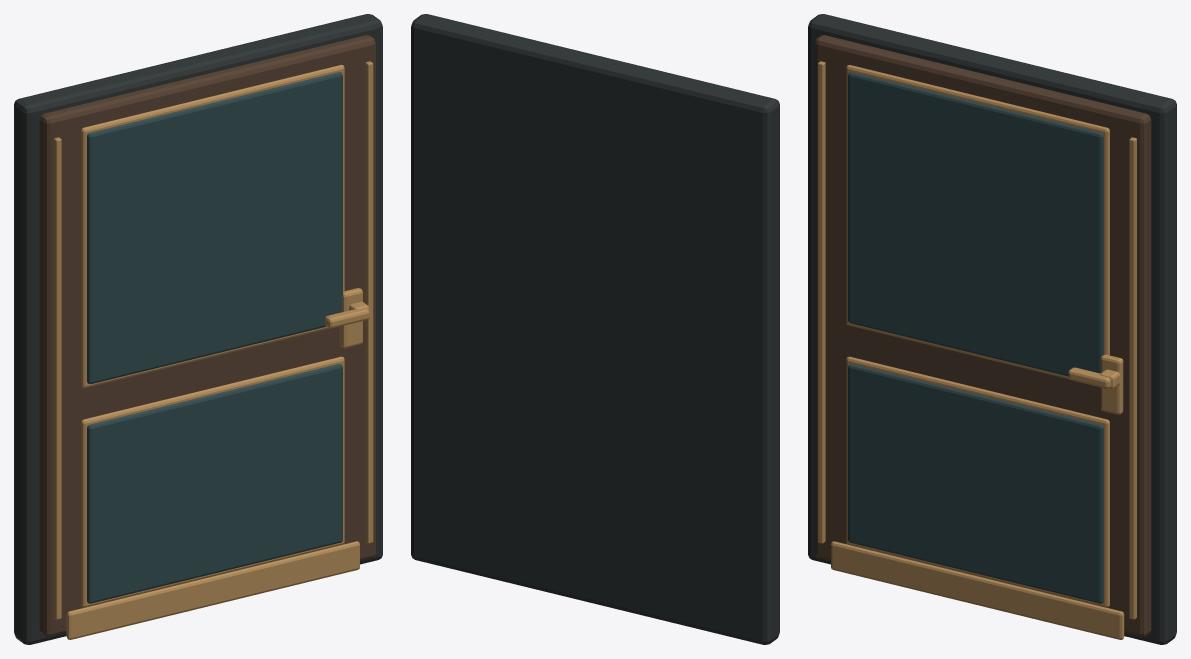
File: return-leaf.glb
The picture shows the model from 3 angles, left to right: view 1: azimuth 30°, elevation 25°; view 2: azimuth 150°, elevation 25°; view 3: azimuth 330°, elevation 25°; orthographic projection.
Parts seen in each view (by area): view 1: Atelier return door; view 2: Atelier return door; view 3: Atelier return door.
Part boxes in pixels (x1,y1,x2,y2): Atelier return door: [14, 14, 382, 644]; Atelier return door: [411, 14, 779, 644]; Atelier return door: [808, 14, 1176, 644].
Size of the model in its own units: 1.56 by 2.24 by 0.2675.
